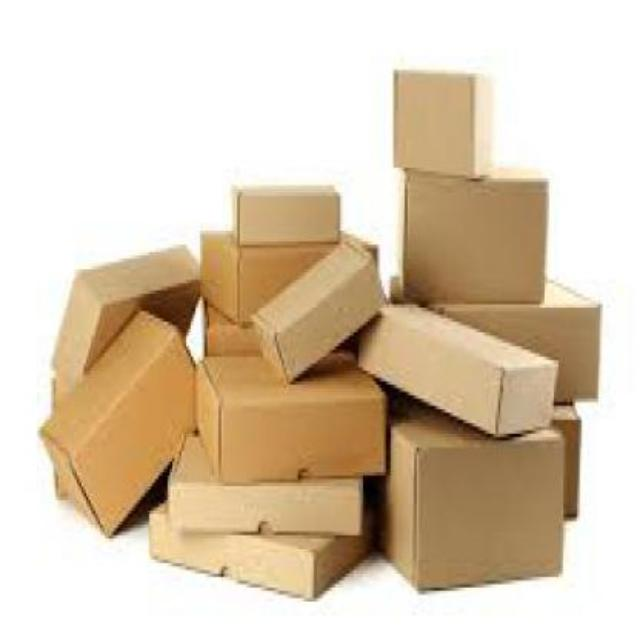cardboard_box: (37, 314, 227, 530), (372, 418, 576, 598), (382, 271, 610, 404), (142, 490, 404, 594), (192, 351, 398, 483), (358, 304, 546, 440), (45, 248, 211, 396), (398, 156, 552, 308), (198, 220, 398, 328), (174, 437, 362, 533), (388, 54, 506, 188), (267, 234, 377, 374), (226, 174, 360, 246)
